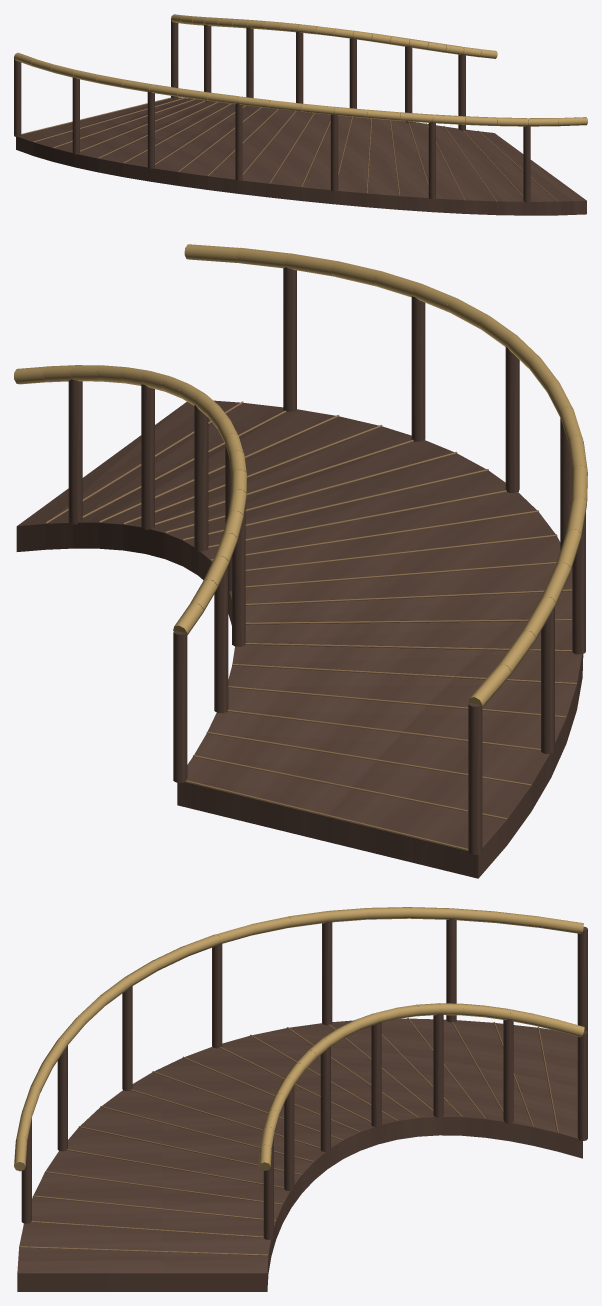
The model's file is bridge-curved.glb.
3 renders of one model, top to bottom at view 1: azimuth 30°, elevation 25°; view 2: azimuth 150°, elevation 25°; view 3: azimuth 270°, elevation 25°, orthographic. The views are drawn at different scales.
Parts seen in each view (by area): view 1: bridge-curved_wood, bridge-curved_gold, bridge-curved_barkLight; view 2: bridge-curved_wood, bridge-curved_gold, bridge-curved_barkLight; view 3: bridge-curved_wood, bridge-curved_gold, bridge-curved_barkLight.
Part boxes in pixels (x1,y1,x2,y2): bridge-curved_wood: (14,20,586,215); bridge-curved_gold: (14,14,587,126); bridge-curved_barkLight: (21,97,558,201); bridge-curved_wood: (16,267,585,878); bridge-curved_gold: (14,244,587,707); bridge-curved_barkLight: (45,401,576,850); bridge-curved_wood: (17,918,587,1291); bridge-curved_gold: (14,907,584,1171); bridge-curved_barkLight: (19,1017,558,1255).
Size of the model in its own units: 3.88 by 1.33 by 3.9.
3 materials, 1 textured.
